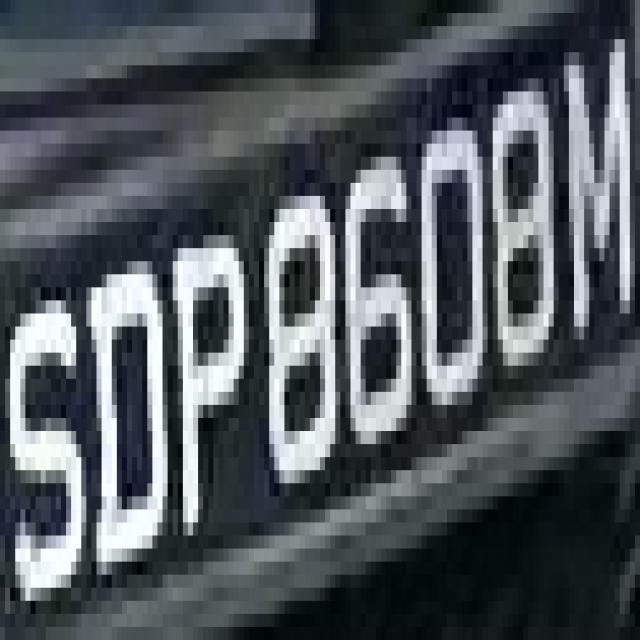0: (401, 118, 483, 431)
6: (335, 118, 422, 483)
8: (249, 183, 350, 535), (482, 65, 558, 405)
D: (76, 222, 168, 601)
M: (548, 26, 640, 352)
P: (163, 196, 254, 575)
S: (0, 5, 1, 13)
